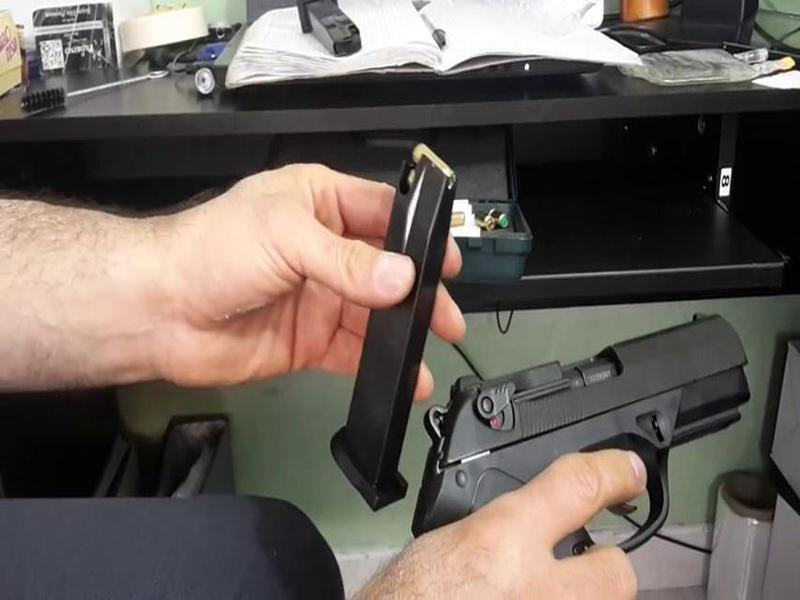Pistola: (406, 304, 757, 572)
